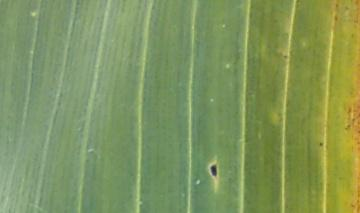tarspot: (210, 163, 218, 177), (317, 140, 324, 148), (282, 53, 289, 60)
